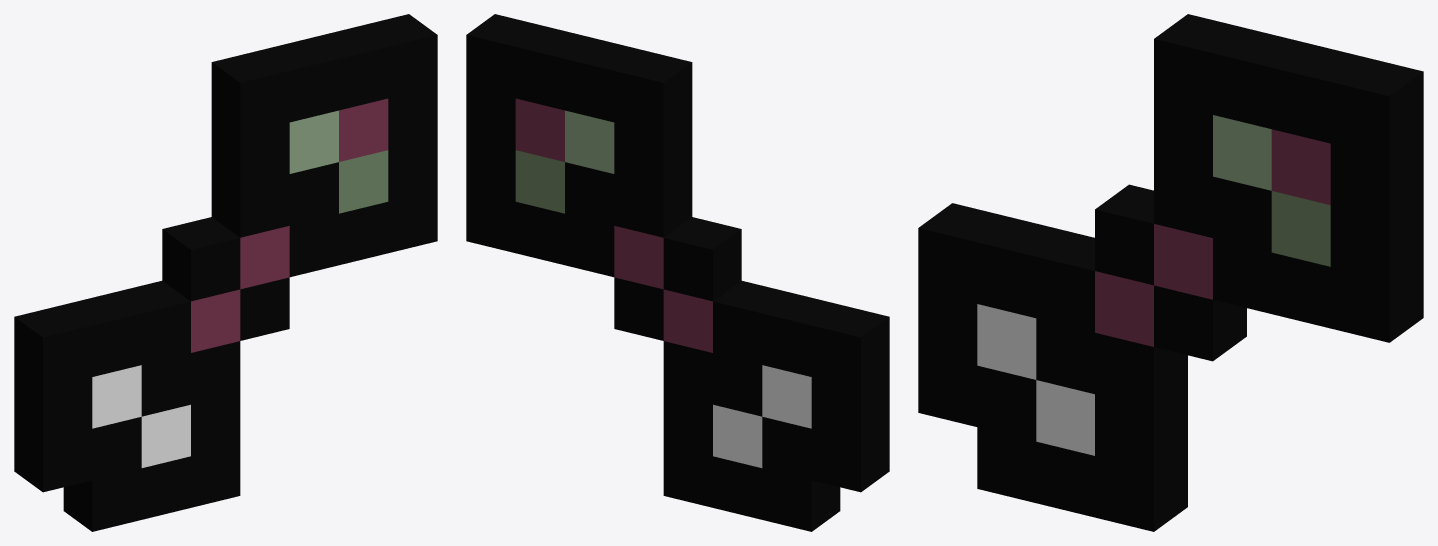
Rendered from Arrow of Brain Rot.glb.
The picture shows the model from 3 angles, left to right: view 1: azimuth 30°, elevation 25°; view 2: azimuth 150°, elevation 25°; view 3: azimuth 330°, elevation 25°; orthographic projection. The views are drawn at different scales.
Visible parts, largest first — view 1: generated(Clone); view 2: generated(Clone); view 3: generated(Clone).
Part boxes in pixels (bbox=[...]): generated(Clone): bbox=[14, 14, 437, 531]; generated(Clone): bbox=[466, 14, 889, 531]; generated(Clone): bbox=[918, 14, 1423, 531].
Bounding box in the file's own units: 8 × 8 × 1.
Materials: 1 (1 with a texture image).
